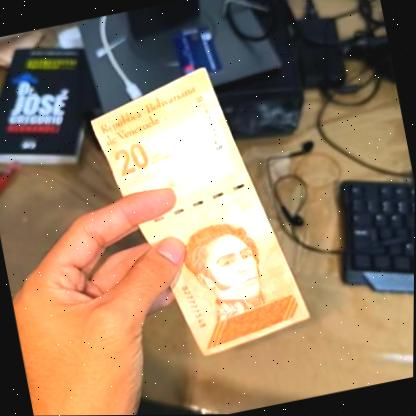twenty-front-vef: (82, 57, 316, 371)
